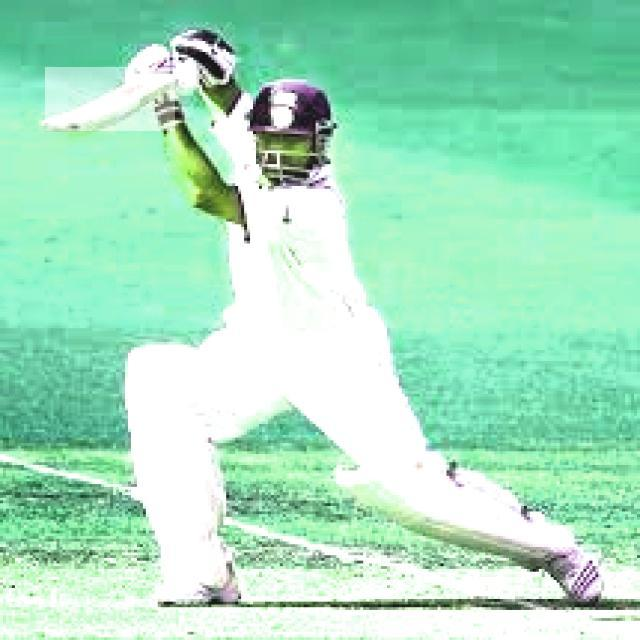bat: (40, 70, 184, 130)
